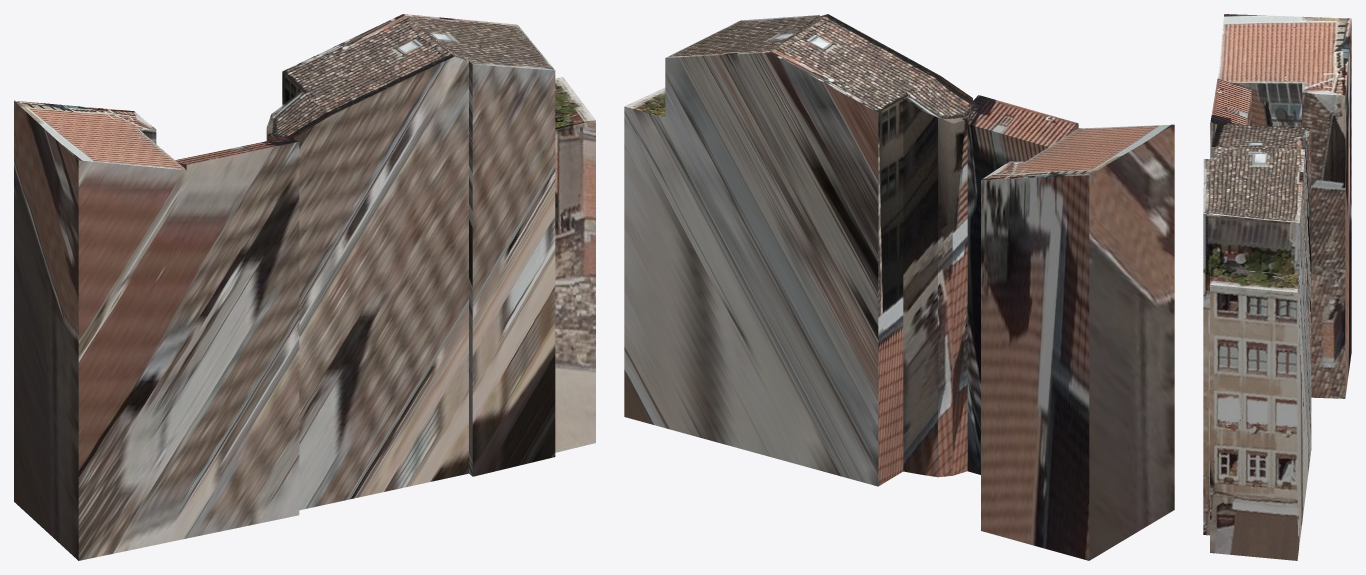
3 renders of one model, left to right at view 1: azimuth 30°, elevation 25°; view 2: azimuth 150°, elevation 25°; view 3: azimuth 270°, elevation 25°, orthographic. The views are drawn at different scales.
Parts seen in each view (by area): view 1: Z_UP; view 2: Z_UP; view 3: Z_UP.
Part boxes in pixels (box(x1,y1,x2,y2)): Z_UP: box(14, 14, 595, 560); Z_UP: box(624, 14, 1174, 560); Z_UP: box(1203, 14, 1351, 560).
Size of the model in its own units: 27.92 by 21.21 by 8.18.
2 materials, 1 textured.
